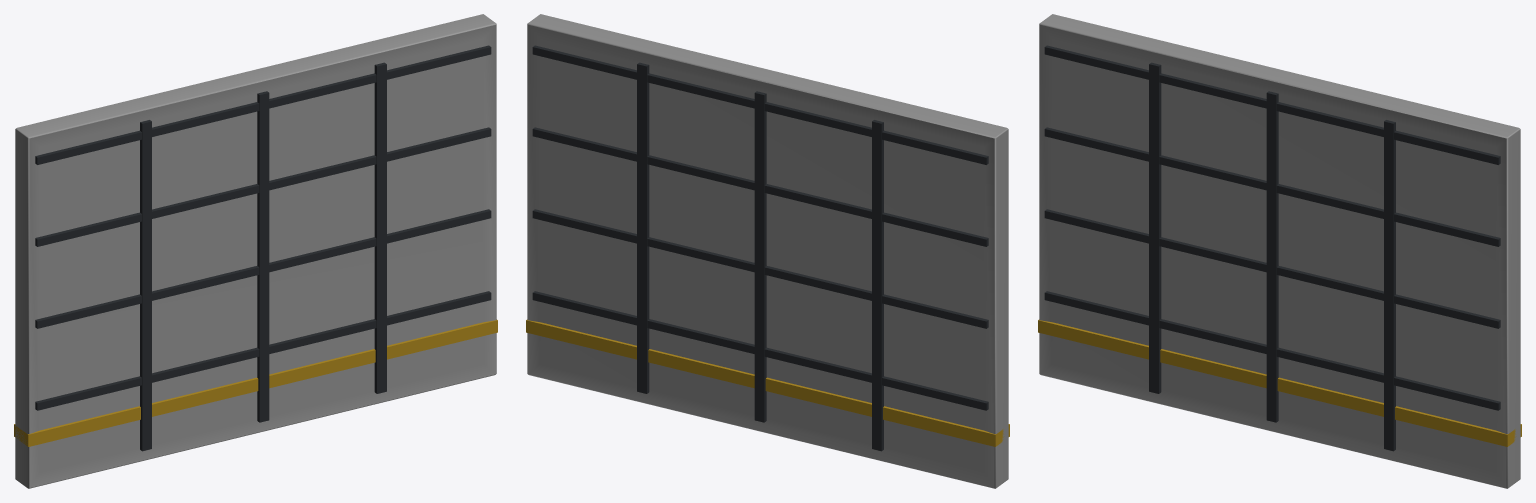
Rendered from Gate_Facility_Leaf.fbx.
3 views of the same model, side by side, from view 1: azimuth 30°, elevation 25°; view 2: azimuth 150°, elevation 25°; view 3: azimuth 330°, elevation 25° (orthographic).
Parts seen in each view (by area): view 1: Gate_Facility_Leaf_LOD0; view 2: Gate_Facility_Leaf_LOD0; view 3: Gate_Facility_Leaf_LOD0.
Part boxes in pixels (x1,y1,x2,y2): Gate_Facility_Leaf_LOD0: (14,14,497,488); Gate_Facility_Leaf_LOD0: (526,14,1009,488); Gate_Facility_Leaf_LOD0: (1038,14,1521,488).
Size of what is drawn, in the model's own units: 12 by 8.6 by 0.76.
